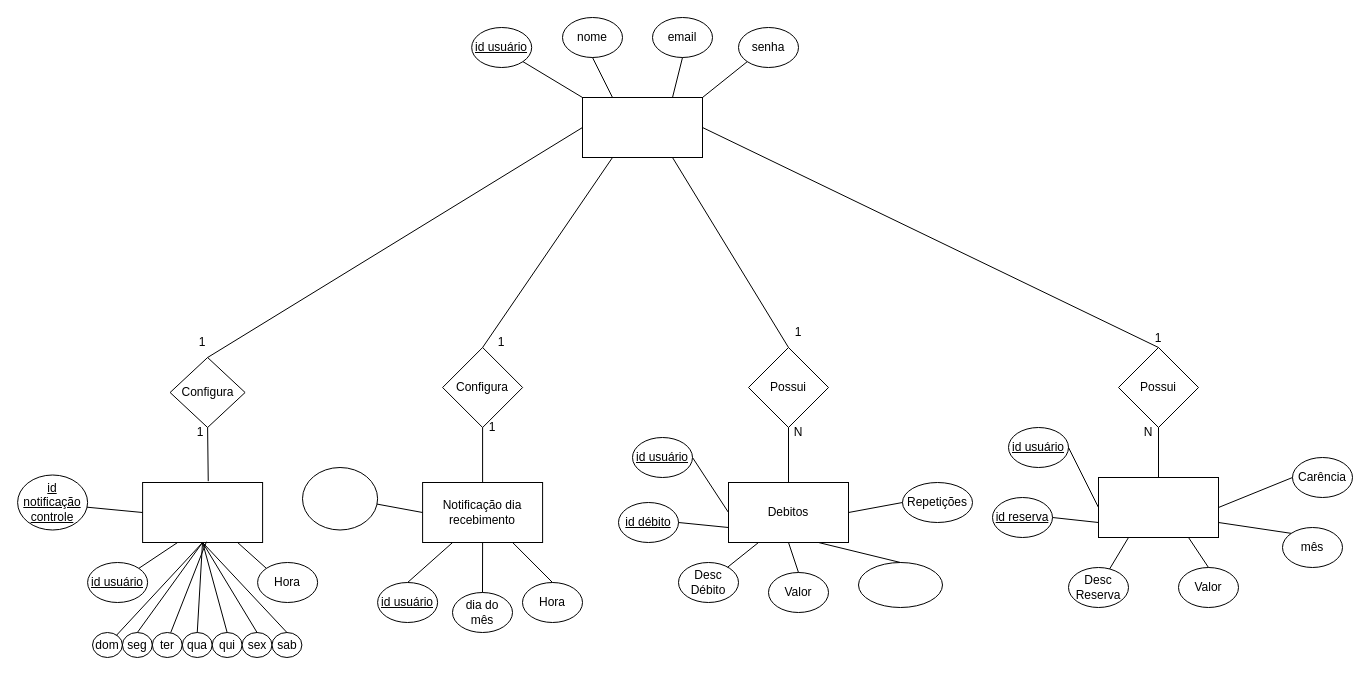
The diagram is 1370 pixels wide and 675 high, and some of its shapes have lost their labels. Each missing label, with the centre of its shape:
id notificação recebimento: the point at 340,498
Notificação controle do saldo: the point at 202,512
Reservas: the point at 1158,507
Usuário: the point at 642,127
Vencimento (dd/mm/aaaa): the point at 900,585
